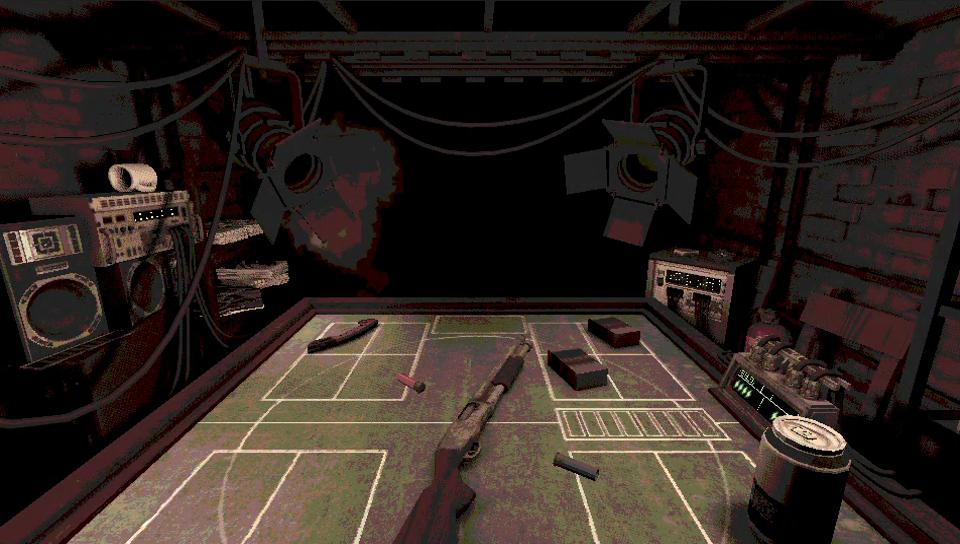ally: (41, 404, 890, 543)
cigar: (548, 341, 609, 387), (587, 312, 640, 345)
doubledamage: (308, 317, 379, 352)
emptyspace: (128, 449, 295, 543), (571, 452, 715, 543), (245, 449, 384, 543), (748, 416, 850, 543), (267, 352, 365, 400), (603, 353, 693, 400), (339, 352, 417, 400), (361, 322, 427, 353), (535, 319, 591, 350)
enemyspace: (204, 309, 722, 417)
gun: (396, 335, 533, 542)
